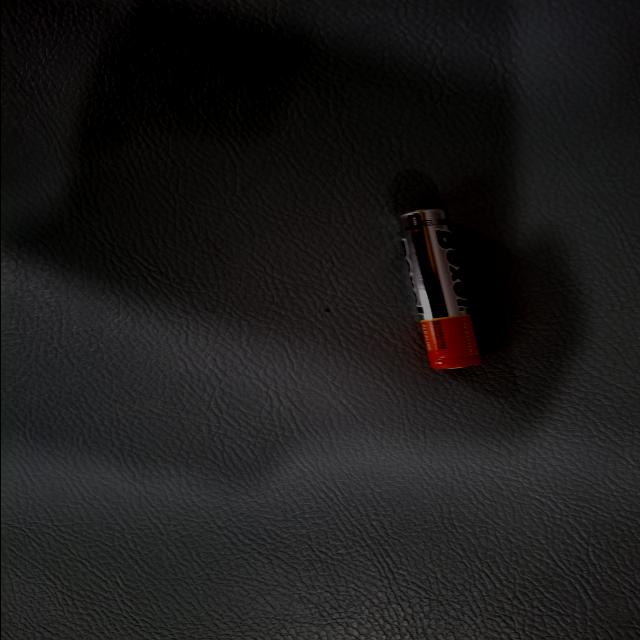AAA: (68, 120, 280, 184)
